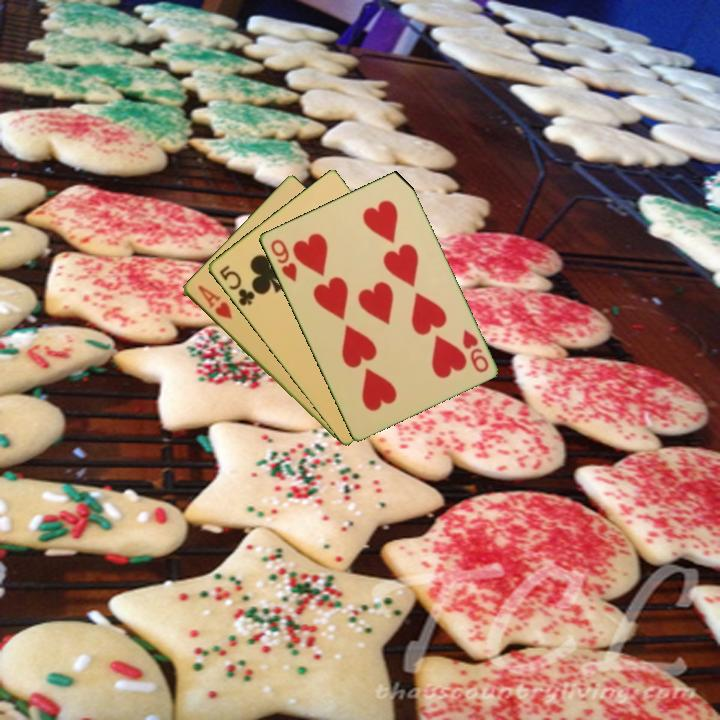5c: (215, 261, 257, 309)
9h: (267, 235, 300, 285), (458, 326, 491, 376)
Ah: (193, 282, 235, 322)
